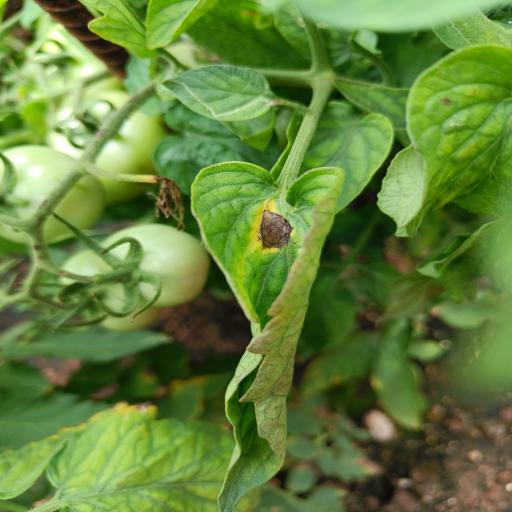Early Blight: (182, 158, 354, 512)
